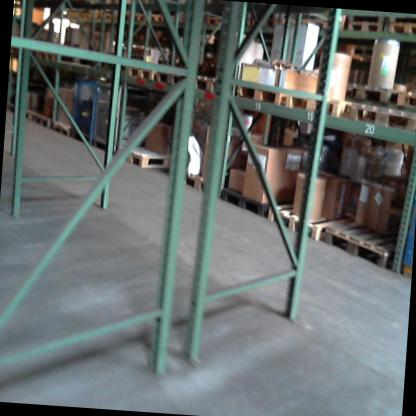pallet: (263, 191, 367, 256), (323, 206, 402, 271), (212, 179, 296, 227), (281, 80, 353, 125), (347, 93, 416, 138), (118, 141, 173, 176), (230, 78, 287, 109), (168, 170, 226, 200), (336, 79, 399, 106), (178, 67, 223, 98), (146, 60, 185, 94), (258, 9, 298, 40), (344, 13, 384, 40), (127, 55, 163, 83), (195, 10, 232, 36), (382, 17, 416, 45), (294, 14, 334, 37), (126, 7, 151, 34), (393, 87, 416, 114), (167, 10, 195, 31), (98, 5, 123, 28), (26, 110, 48, 132), (48, 120, 70, 142), (36, 46, 57, 68), (146, 11, 167, 29), (60, 5, 78, 24), (77, 10, 92, 26)
stillage: (89, 75, 169, 157), (66, 73, 102, 147)
